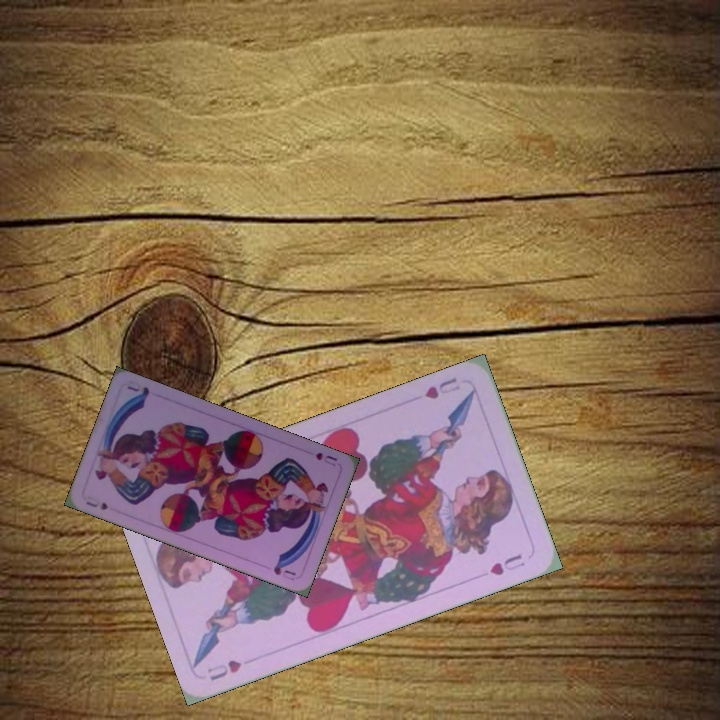HU: (421, 373, 463, 402), (203, 655, 245, 684)
SU: (311, 448, 340, 469), (82, 495, 111, 513)
